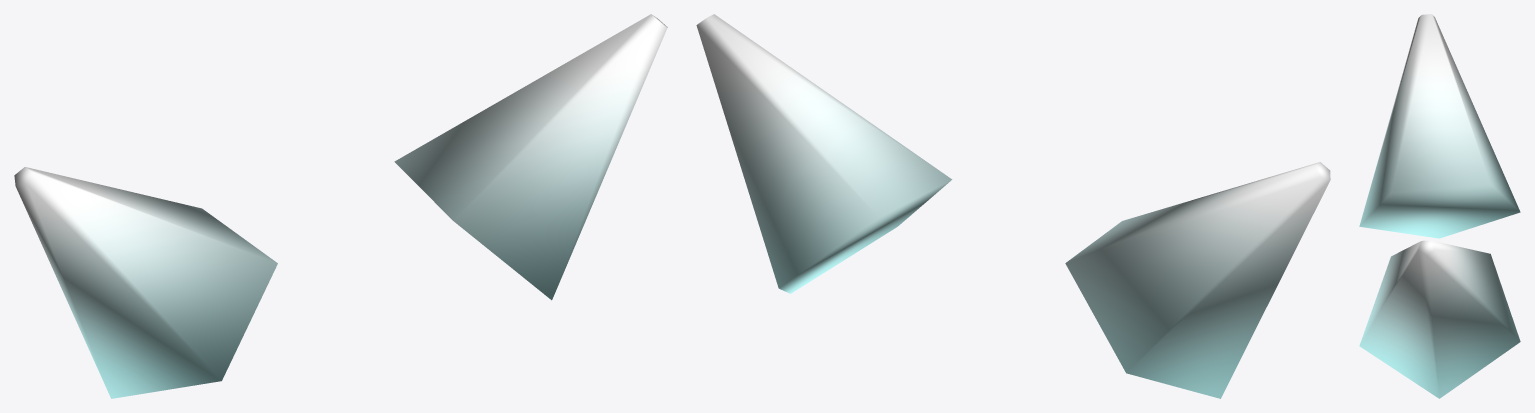
Rendered from horn1.glb.
3 views of the same model, side by side, from view 1: azimuth 30°, elevation 25°; view 2: azimuth 150°, elevation 25°; view 3: azimuth 270°, elevation 25° (orthographic). The views are drawn at different scales.
Visible parts, largest first — view 1: Horns; view 2: Horns; view 3: Horns.
Boxes of the visible parts, x1,y1,x2,y2 form: Horns: [14, 14, 667, 398]; Horns: [696, 14, 1330, 398]; Horns: [1359, 14, 1520, 398].
Size of the model in its own units: 2.33 by 0.8807 by 0.6727.
1 material, 1 textured.
